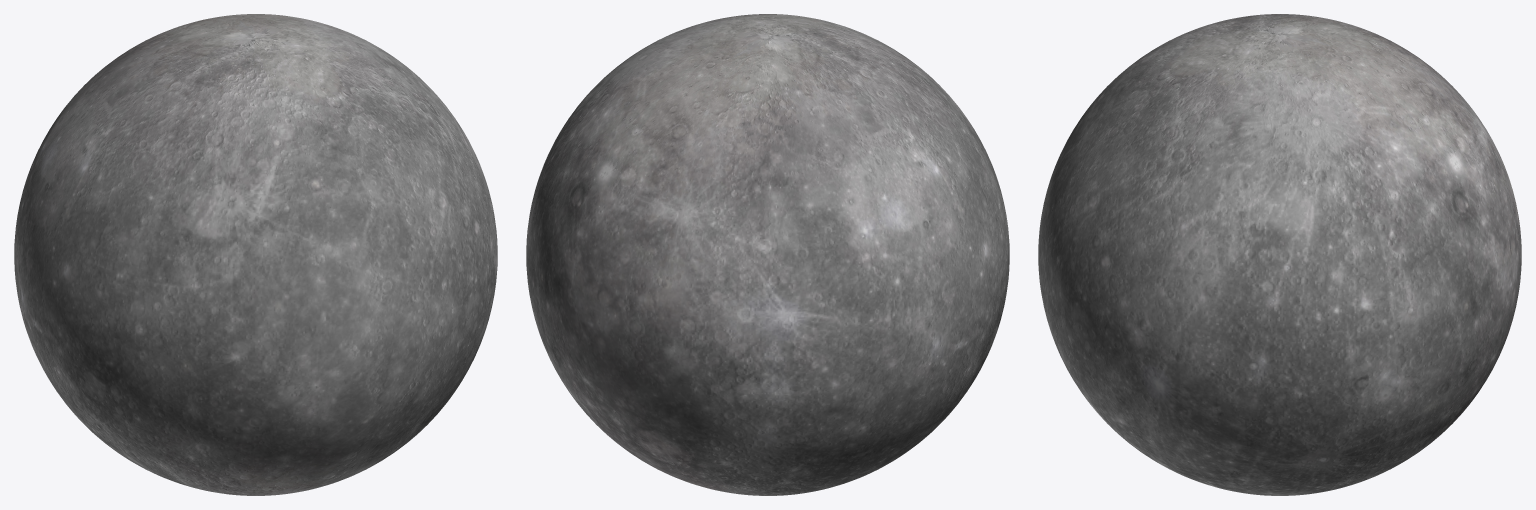
The model's file is mercury.glb.
3 views of the same model, side by side, from view 1: azimuth 30°, elevation 25°; view 2: azimuth 150°, elevation 25°; view 3: azimuth 270°, elevation 25° (orthographic).
Parts seen in each view (by area): view 1: Mercury; view 2: Mercury; view 3: Mercury.
Part boxes in pixels (left/top/right/bottom): Mercury: left=14, top=14, right=497, bottom=495; Mercury: left=526, top=14, right=1009, bottom=495; Mercury: left=1038, top=14, right=1521, bottom=495.
Size of the model in its own units: 0.5 by 0.5 by 0.5.
1 material, 1 textured.
